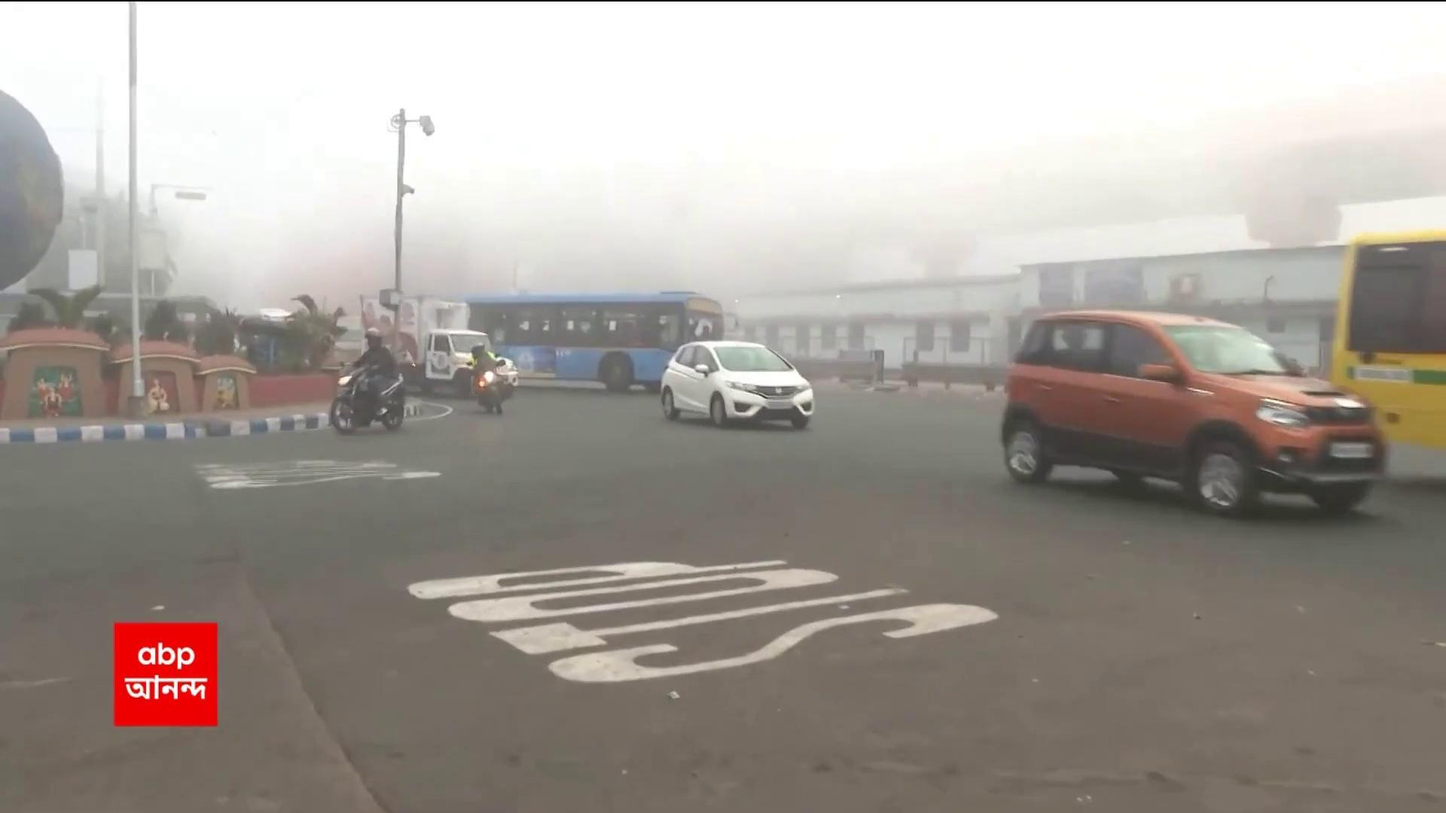Bike: (323, 325, 413, 439), (455, 331, 509, 422)
Bus: (456, 287, 728, 398)
Car: (993, 302, 1390, 521), (655, 337, 819, 438)
